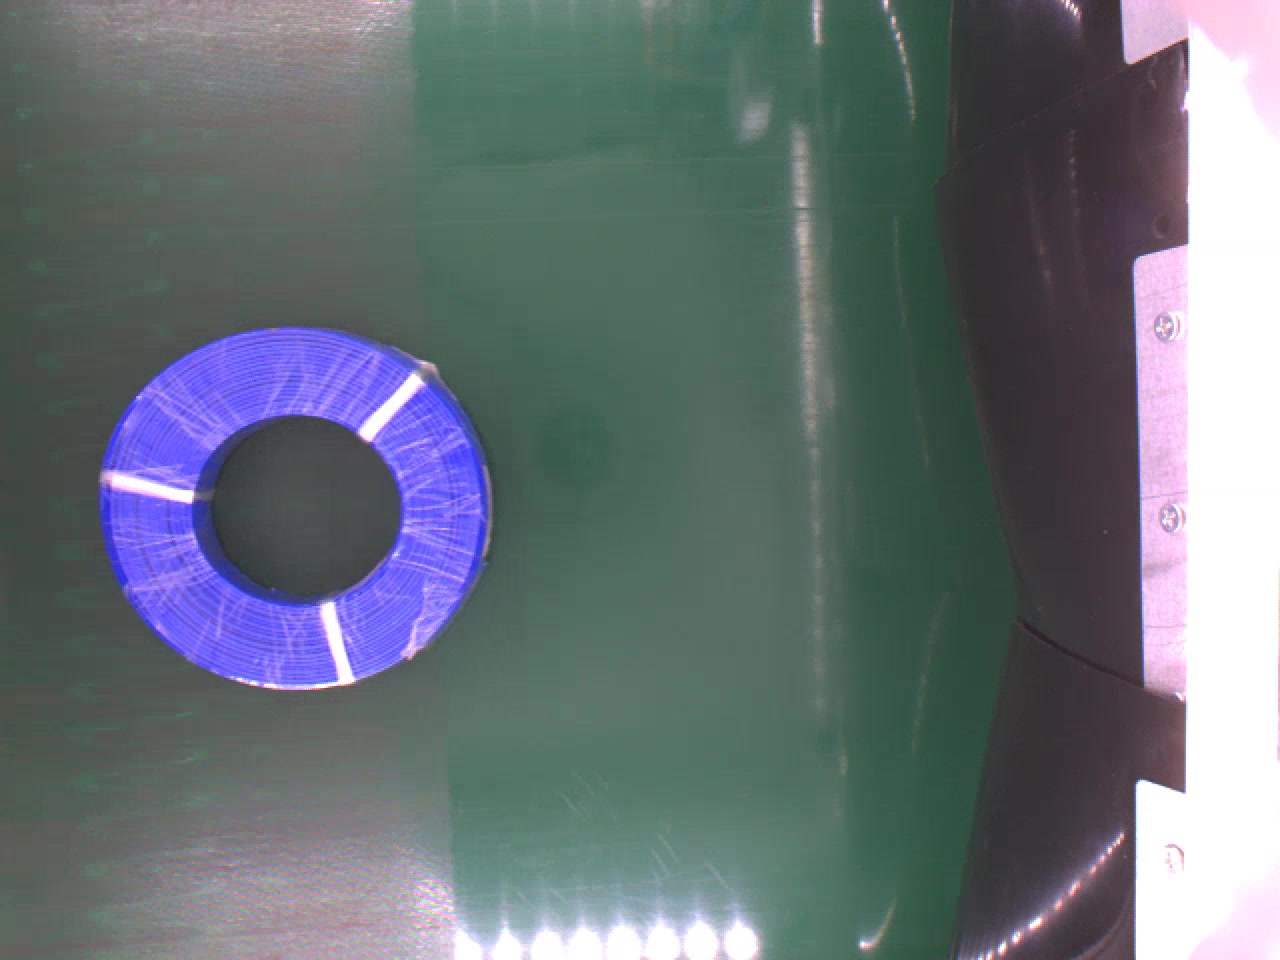blue: (101, 321, 499, 697)
